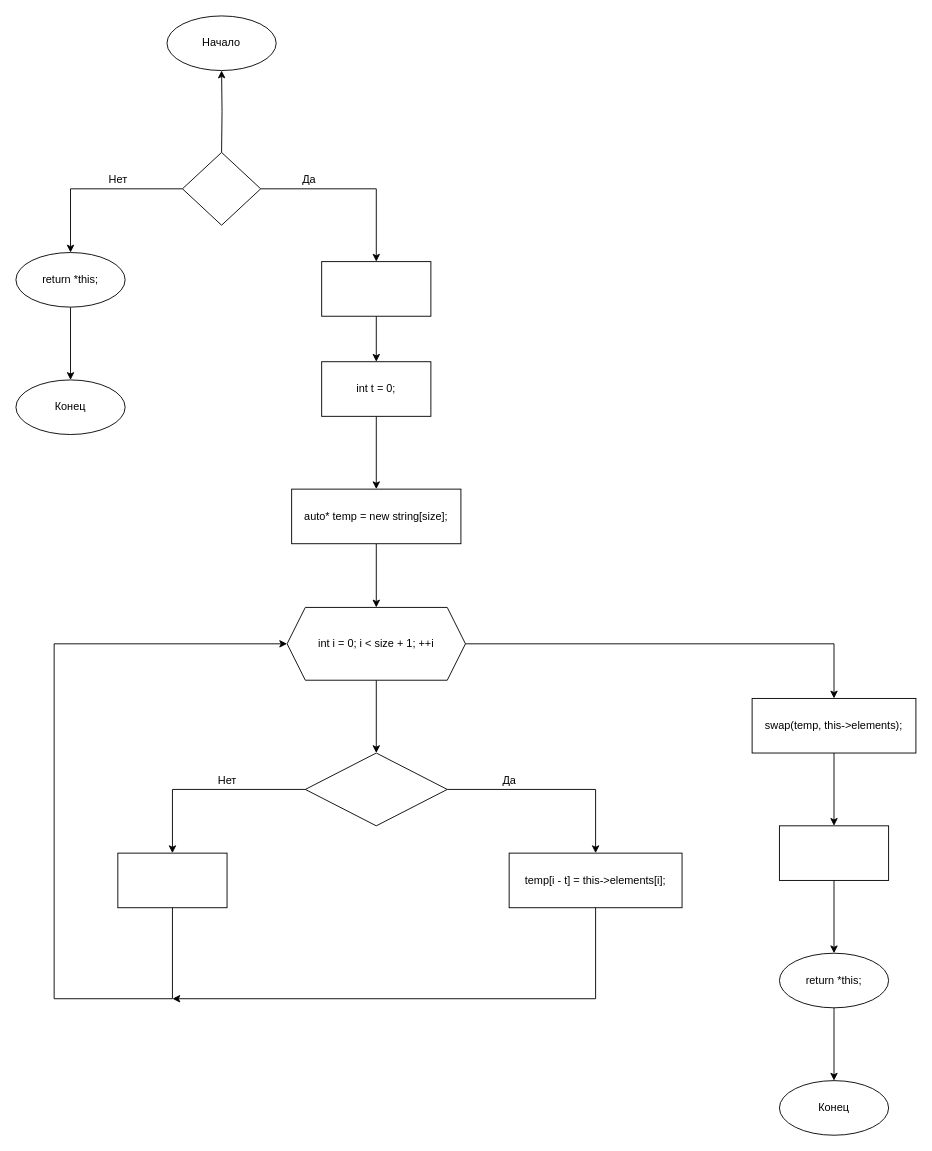
This 932x1151 diagram has some shape labels left out. Here are the shapes that lost their labels. From the top down, the centre of each, then its label:
pixel 221 188: isElement(a)
pixel 376 288: size--;
pixel 375 789: a != this->elements[i]
pixel 834 852: delete[] temp;
pixel 172 880: t = 1;
